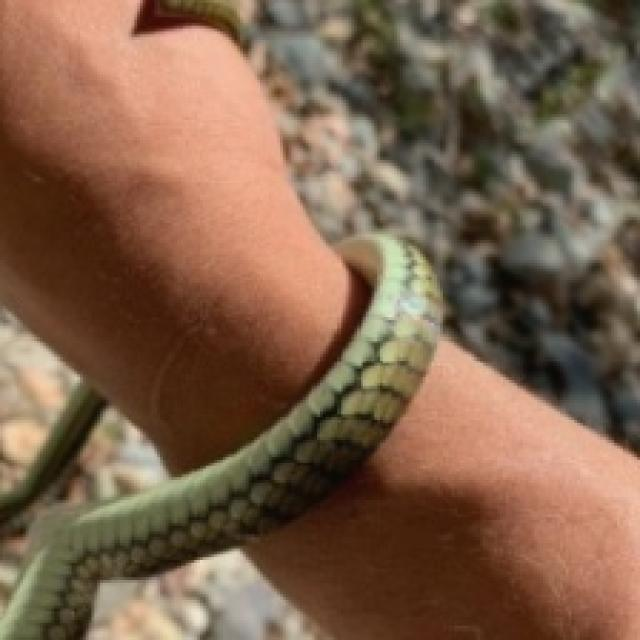philippine bronzeback treesnake: (0, 234, 440, 637)
